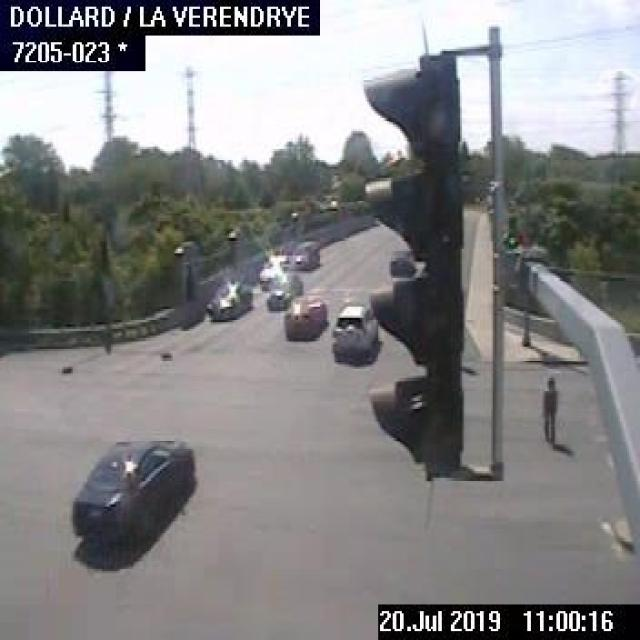pedestrian: (538, 373, 558, 449)
vehicle: (66, 433, 194, 542), (330, 297, 380, 364), (283, 294, 327, 339), (206, 279, 252, 321), (264, 271, 302, 310), (257, 251, 289, 287), (289, 238, 319, 270), (388, 252, 416, 274)
